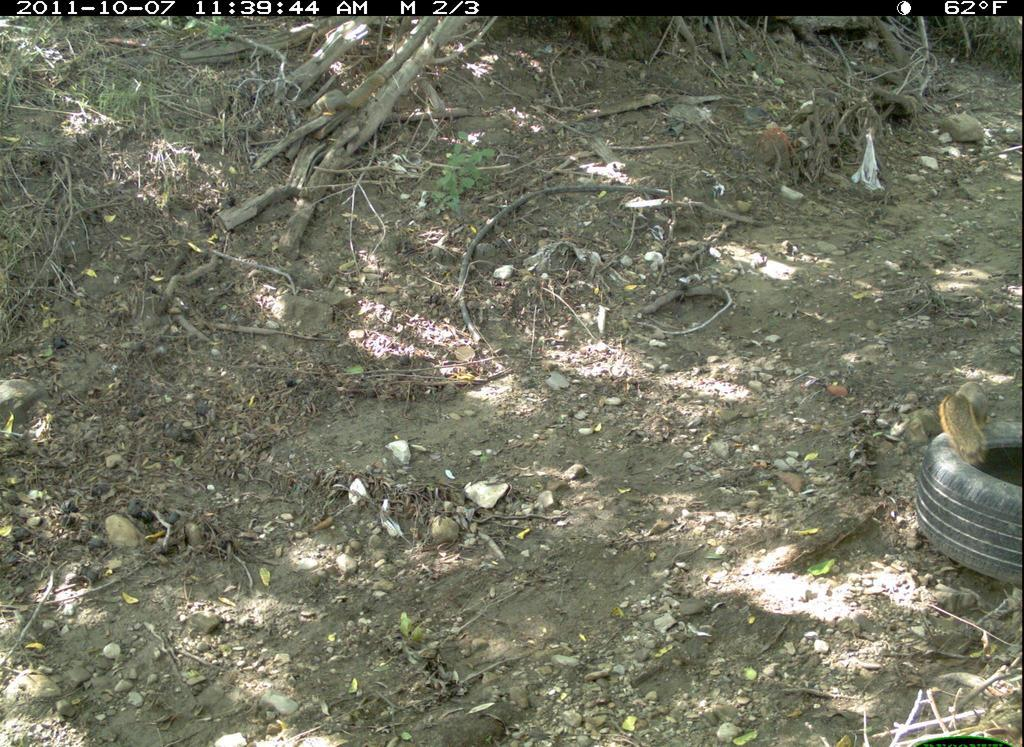squirrel: (934, 369, 1004, 469)
